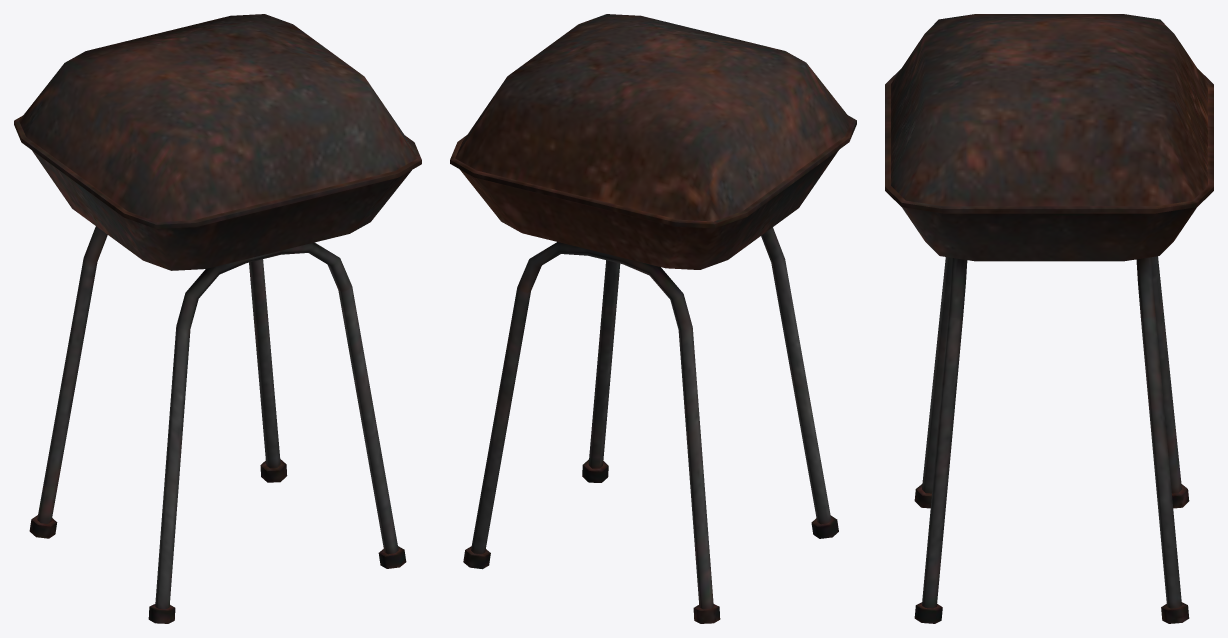
File: Bbq.FBX
The picture shows the model from 3 angles, left to right: view 1: azimuth 30°, elevation 25°; view 2: azimuth 150°, elevation 25°; view 3: azimuth 270°, elevation 25°; orthographic projection. The views are drawn at different scales.
Visible parts, largest first — view 1: Bbq; view 2: Bbq; view 3: Bbq.
Boxes of the visible parts, left/top/right/bottom form: Bbq: left=14, top=14, right=421, bottom=623; Bbq: left=450, top=14, right=856, bottom=623; Bbq: left=885, top=14, right=1213, bottom=623.
Bounding box in the file's own units: 57.88 × 93.29 × 54.57.
